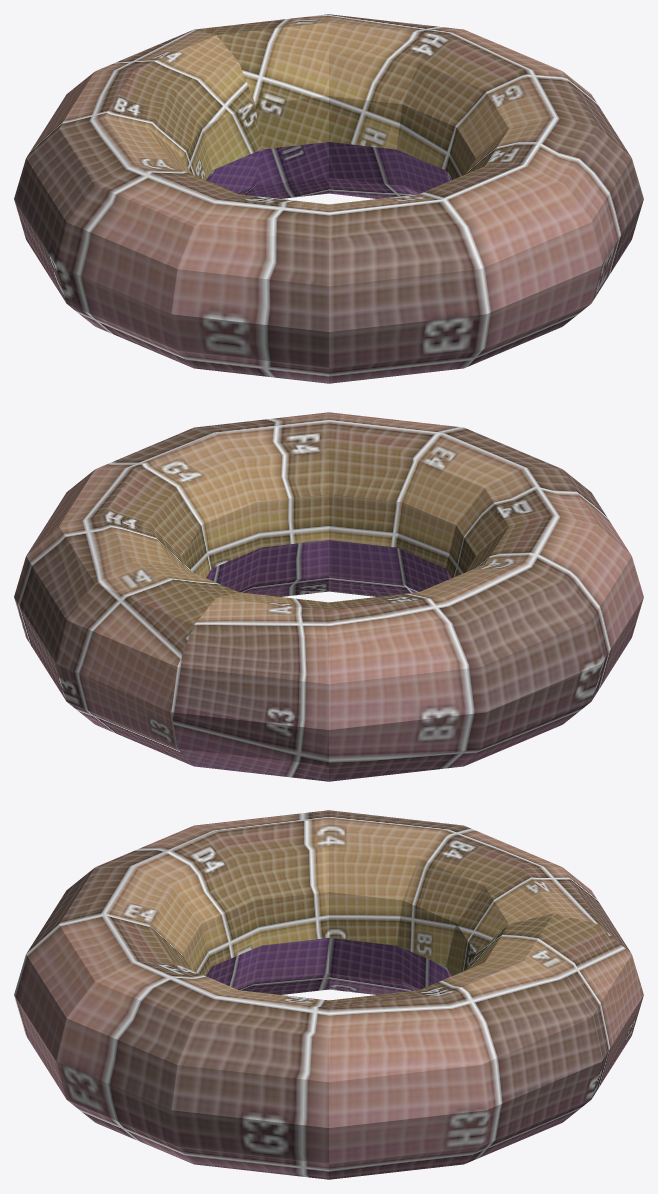
Rendered from simple.obj.
The picture shows the model from 3 angles, top to bottom: view 1: azimuth 30°, elevation 25°; view 2: azimuth 150°, elevation 25°; view 3: azimuth 270°, elevation 25°; orthographic projection.
Parts seen in each view (by area): view 1: Torus; view 2: Torus; view 3: Torus.
Part boxes in pixels (x1,y1,x2,y2): Torus: (14, 14, 643, 383); Torus: (14, 412, 643, 781); Torus: (14, 810, 643, 1179).
Size of the model in its own units: 2.8 by 0.8 by 2.8.
